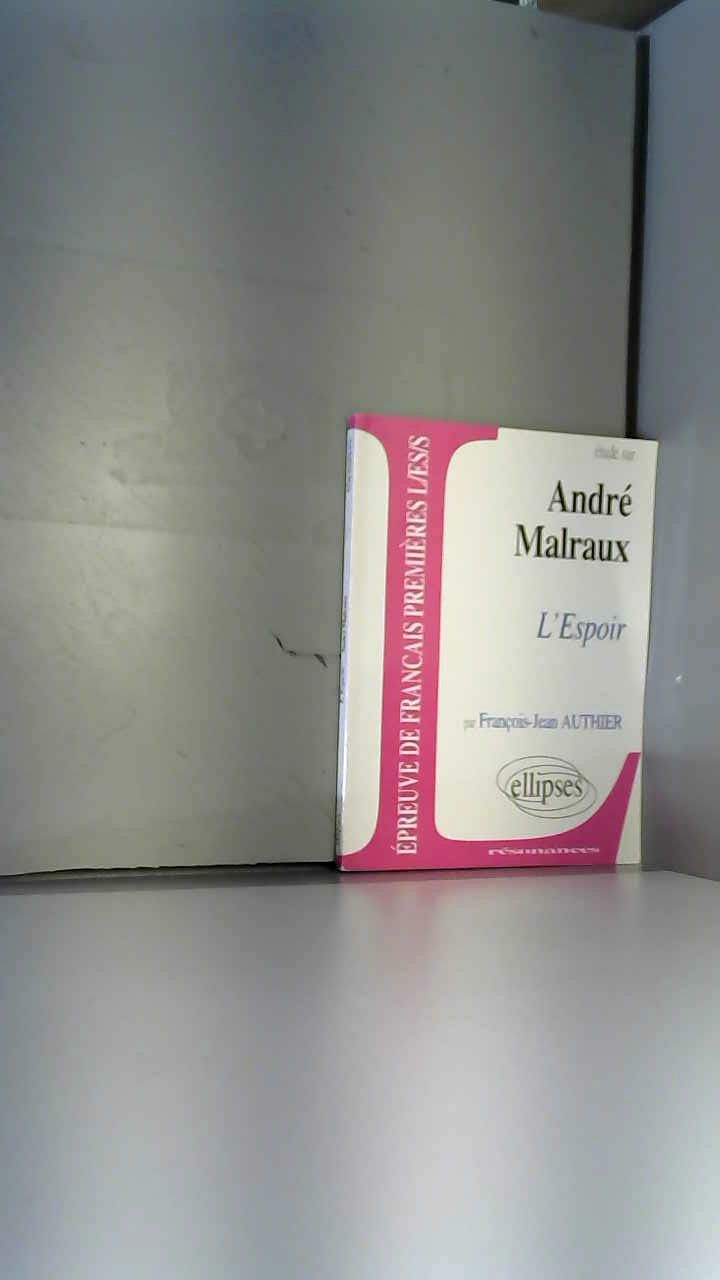book: (327, 398, 665, 893)
